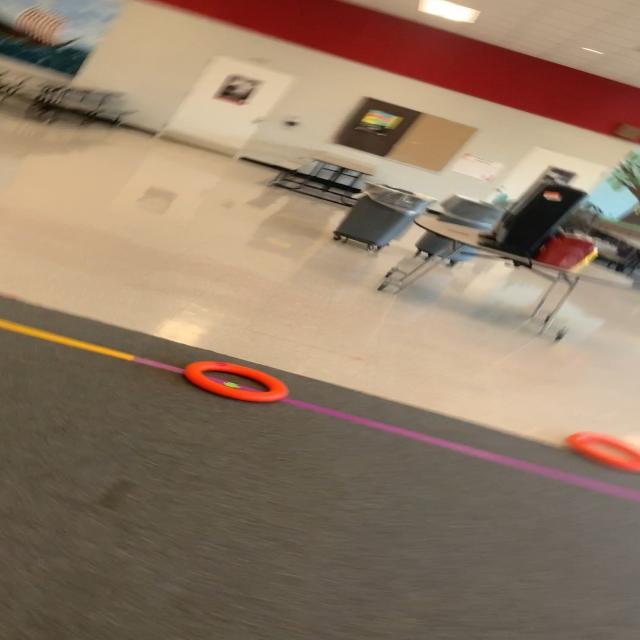notes: (186, 357, 287, 404)
